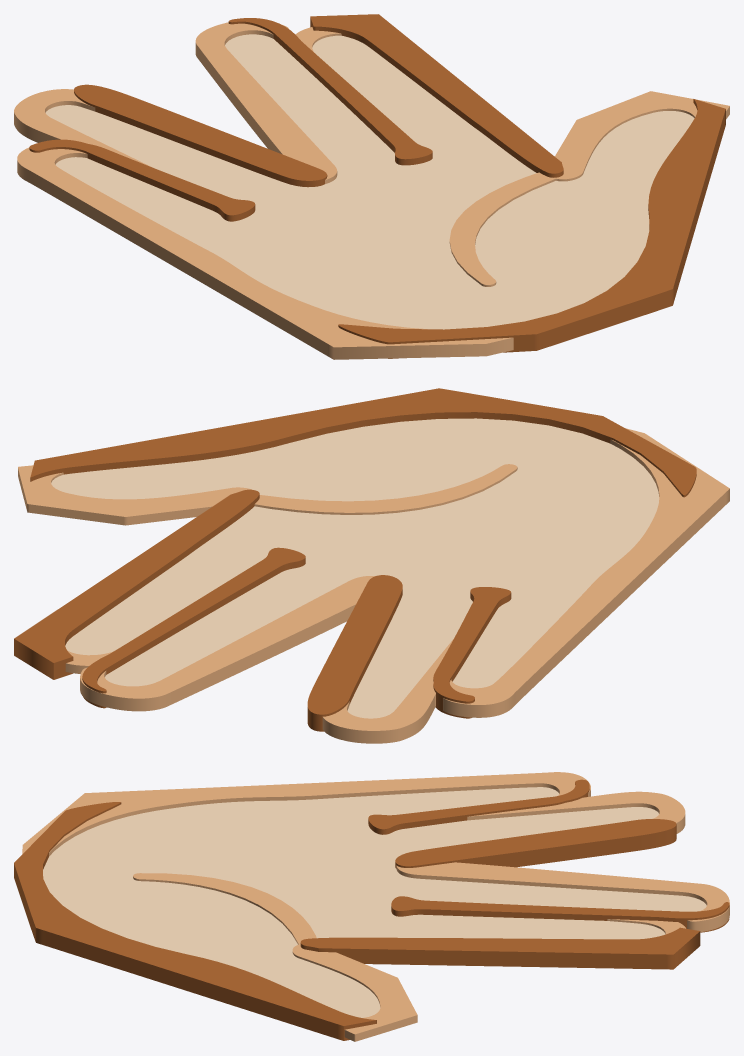
Rendered from emoji_u1f596_1f3fb.glb.
The picture shows the model from 3 angles, top to bottom: view 1: azimuth 30°, elevation 25°; view 2: azimuth 150°, elevation 25°; view 3: azimuth 270°, elevation 25°; orthographic projection. The views are drawn at different scales.
Parts seen in each view (by area): view 1: emoji_u1f596_1f3fb; view 2: emoji_u1f596_1f3fb; view 3: emoji_u1f596_1f3fb.
Part boxes in pixels (bbox=[...]): emoji_u1f596_1f3fb: bbox=[14, 14, 729, 359]; emoji_u1f596_1f3fb: bbox=[14, 388, 729, 743]; emoji_u1f596_1f3fb: bbox=[14, 772, 729, 1041].
Size of the model in its own units: 0.0299 by 0.0008 by 0.0348.
